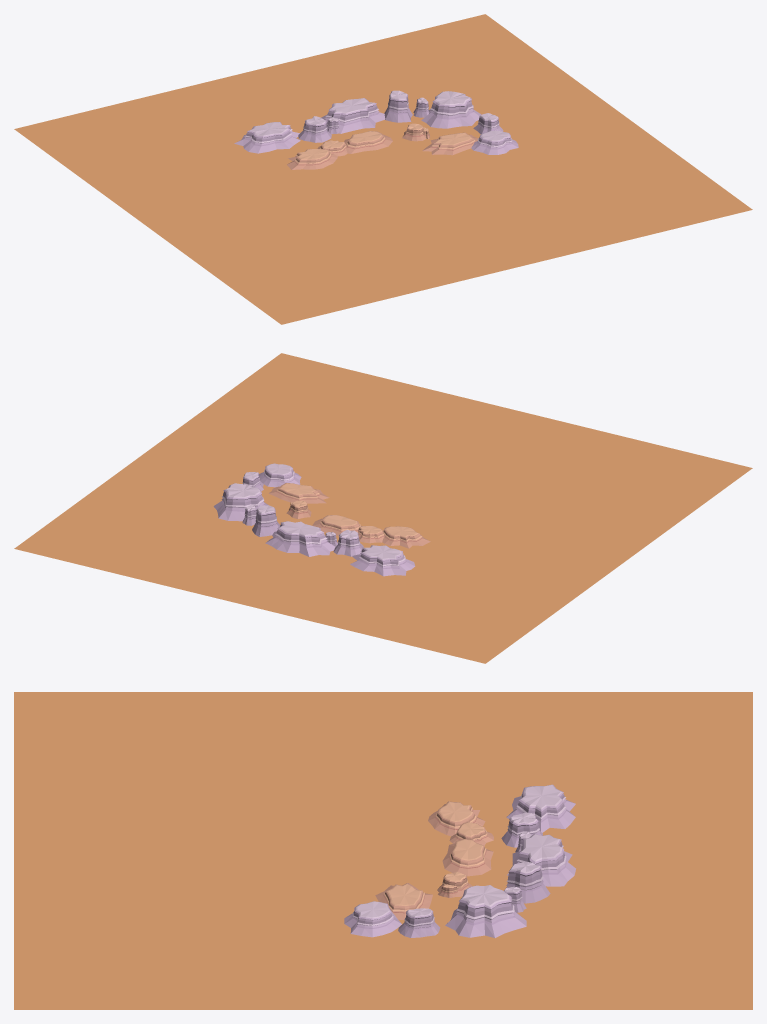
The model's file is BeddedEscarpment.gltf.
The picture shows the model from 3 angles, top to bottom: view 1: azimuth 30°, elevation 25°; view 2: azimuth 150°, elevation 25°; view 3: azimuth 270°, elevation 25°; orthographic projection. The views are drawn at different scales.
Parts seen in each view (by area): view 1: BeddedEscarpment; view 2: BeddedEscarpment; view 3: BeddedEscarpment.
Part boxes in pixels (bbox=[...]): BeddedEscarpment: bbox=[14, 14, 752, 324]; BeddedEscarpment: bbox=[14, 353, 752, 663]; BeddedEscarpment: bbox=[14, 692, 752, 1009].
Size of the model in its own units: 285 by 12.52 by 280.
